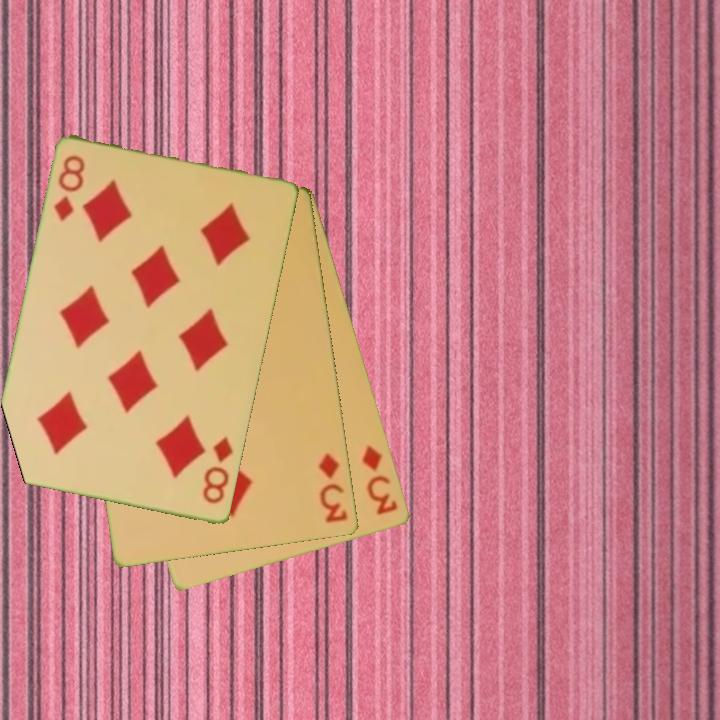3d: (359, 441, 401, 518), (315, 450, 351, 526)
8d: (50, 152, 88, 225), (199, 434, 236, 507)
